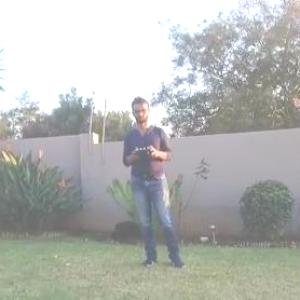follow: (119, 92, 193, 270)
